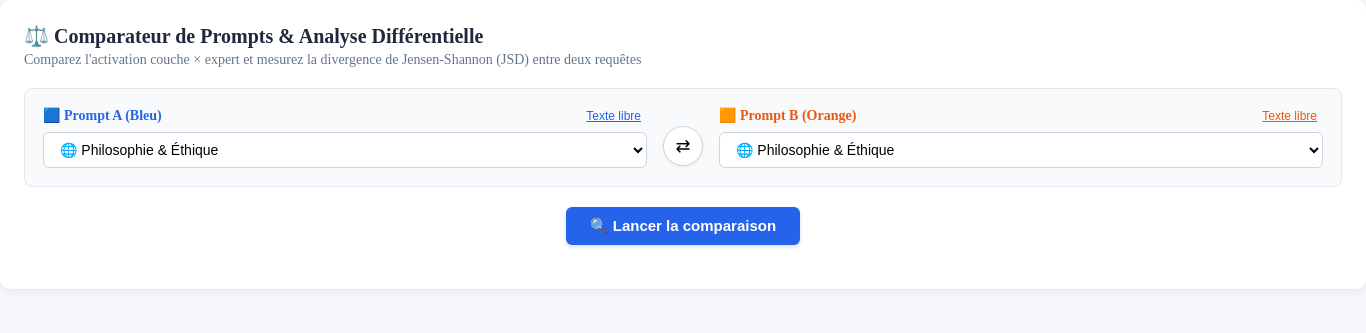
Test: PromptComparator Component › allows switching between select dropdown and custom free-text input
The image size is (1366, 333).
Click the button "Texte libre" in the row of "🟦 Prompt A (Bleu)" at (614, 116), box [580,108,647,124]
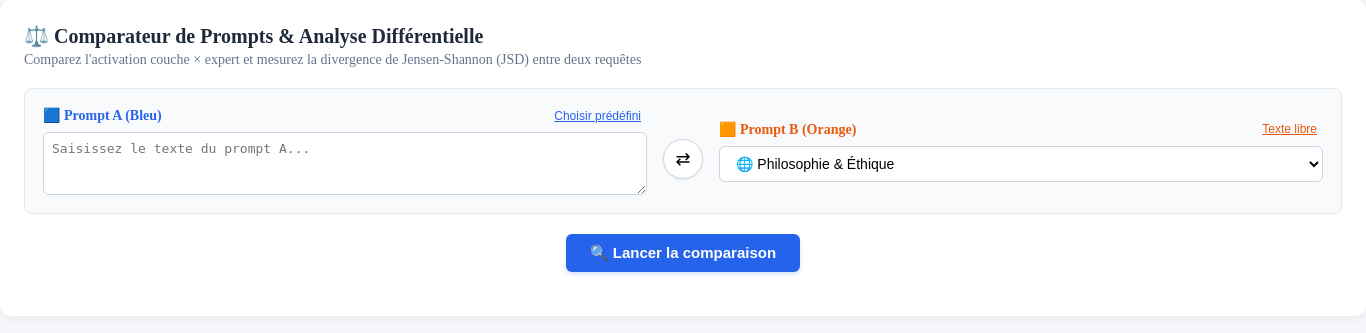
Result: the text box with test id "custom-prompt-a-input" is shown at [43,132,647,195]
Result: the dropdown with test id "select-prompt-a" is gone
Click the button "Choisir prédéfini" at (598, 116), box [548,108,647,124]
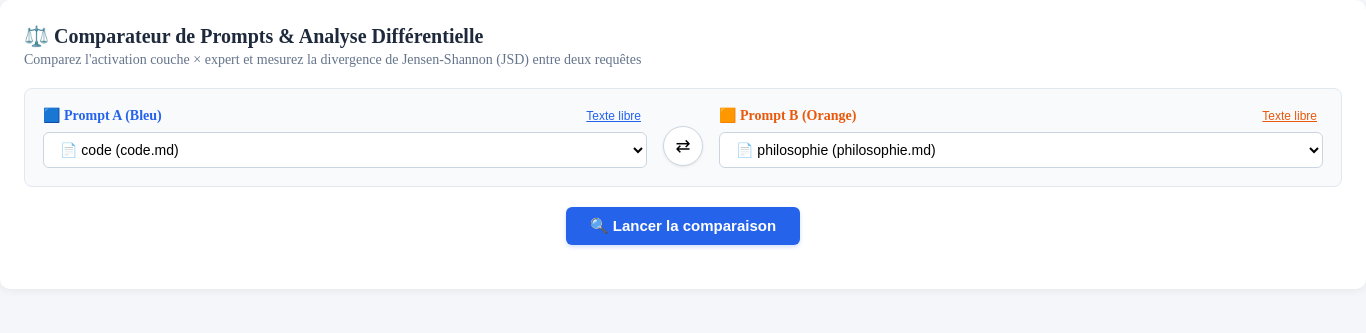
Result: the dropdown with test id "select-prompt-a" is shown at [43,132,647,168]
